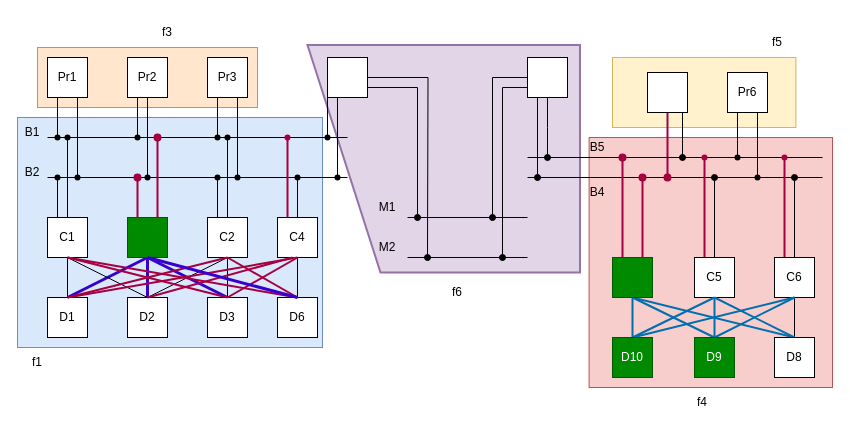
The diagram is 850 pixels wide and 434 high, and some of its shapes have lost their labels. The shapes that lost their labels are listed below. From the top down, each one's centre as x and y in pixels, then its label:
At [347,77]: "A1".
At [547,77]: "A2".
At [667,92]: "Pr5".
At [147,237]: "С8".
At [632,277]: "С7".
